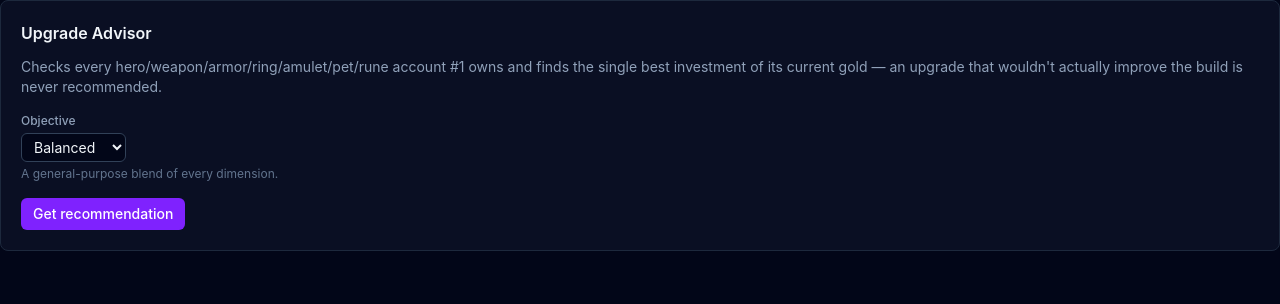
it: UpgradeAdvisorPage › shows the API error message when nothing is worth upgrading
This screenshot has width=1280, height=304.
Click the button "Get recommendation". click: {"x": 103, "y": 214}
box: [21,198,185,230]
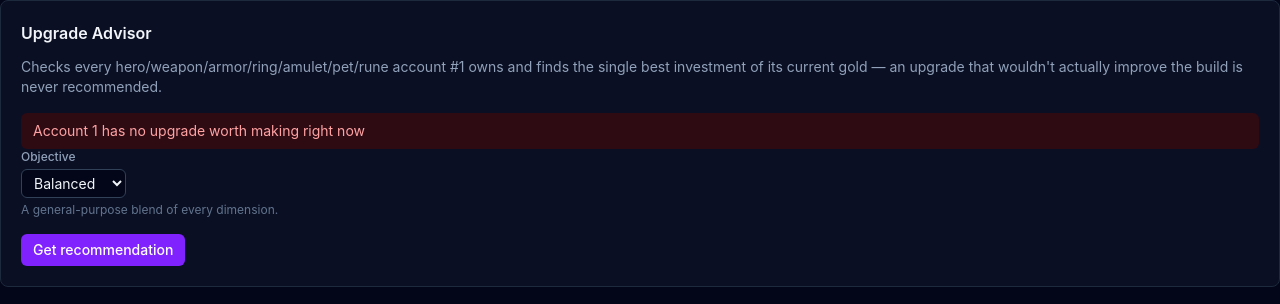
Now the text "Account 1 has no upgrade worth making right now" is shown, box [21,113,1259,149]
